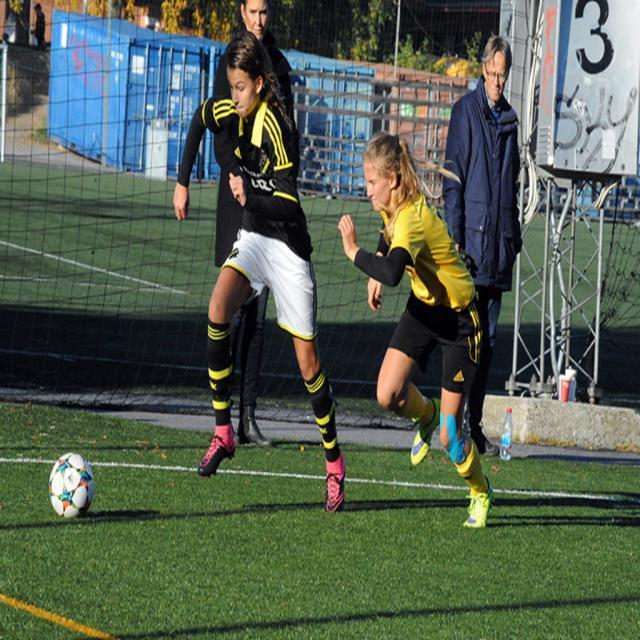football: (35, 450, 121, 538)
